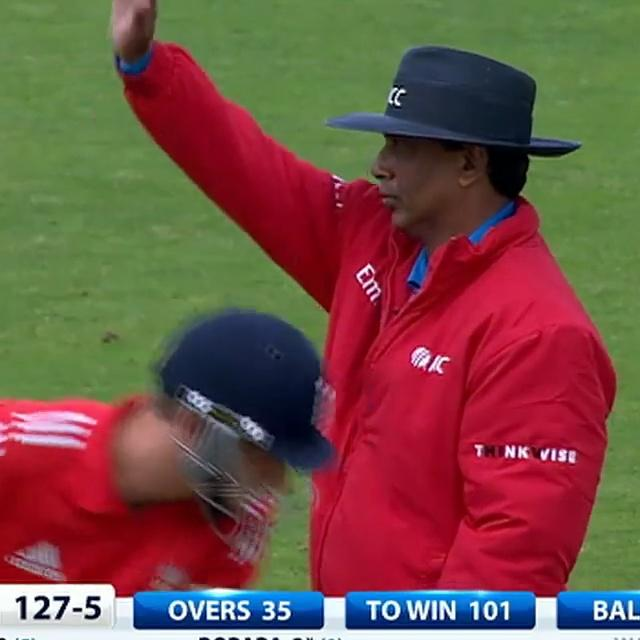umpire: (58, 0, 640, 593)
